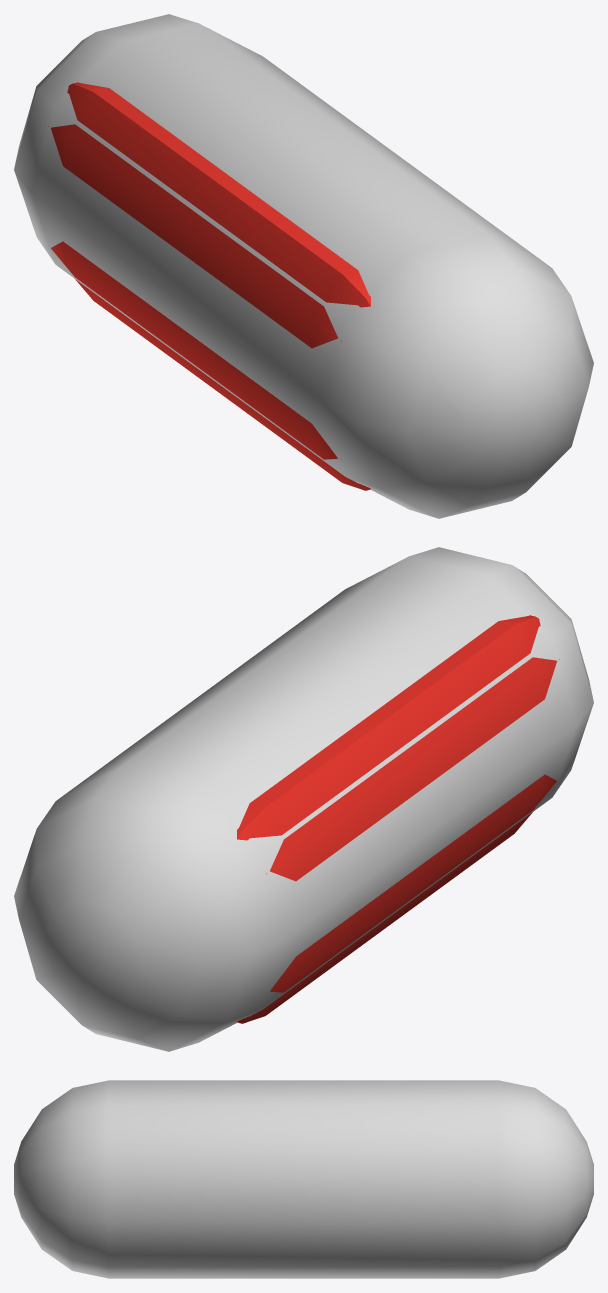
File: cateye_lod1.glb
The picture shows the model from 3 angles, top to bottom: view 1: azimuth 30°, elevation 25°; view 2: azimuth 150°, elevation 25°; view 3: azimuth 270°, elevation 25°; orthographic projection. The views are drawn at different scales.
Parts seen in each view (by area): view 1: cateye_lod1; view 2: cateye_lod1; view 3: cateye_lod1.
Boxes of the visible parts, left/top/right/bottom form: cateye_lod1: left=14, top=14, right=593, bottom=518; cateye_lod1: left=14, top=547, right=593, bottom=1051; cateye_lod1: left=14, top=1080, right=593, bottom=1278.
Size of the model in its own units: 0.044 by 0.0418 by 0.1278.
